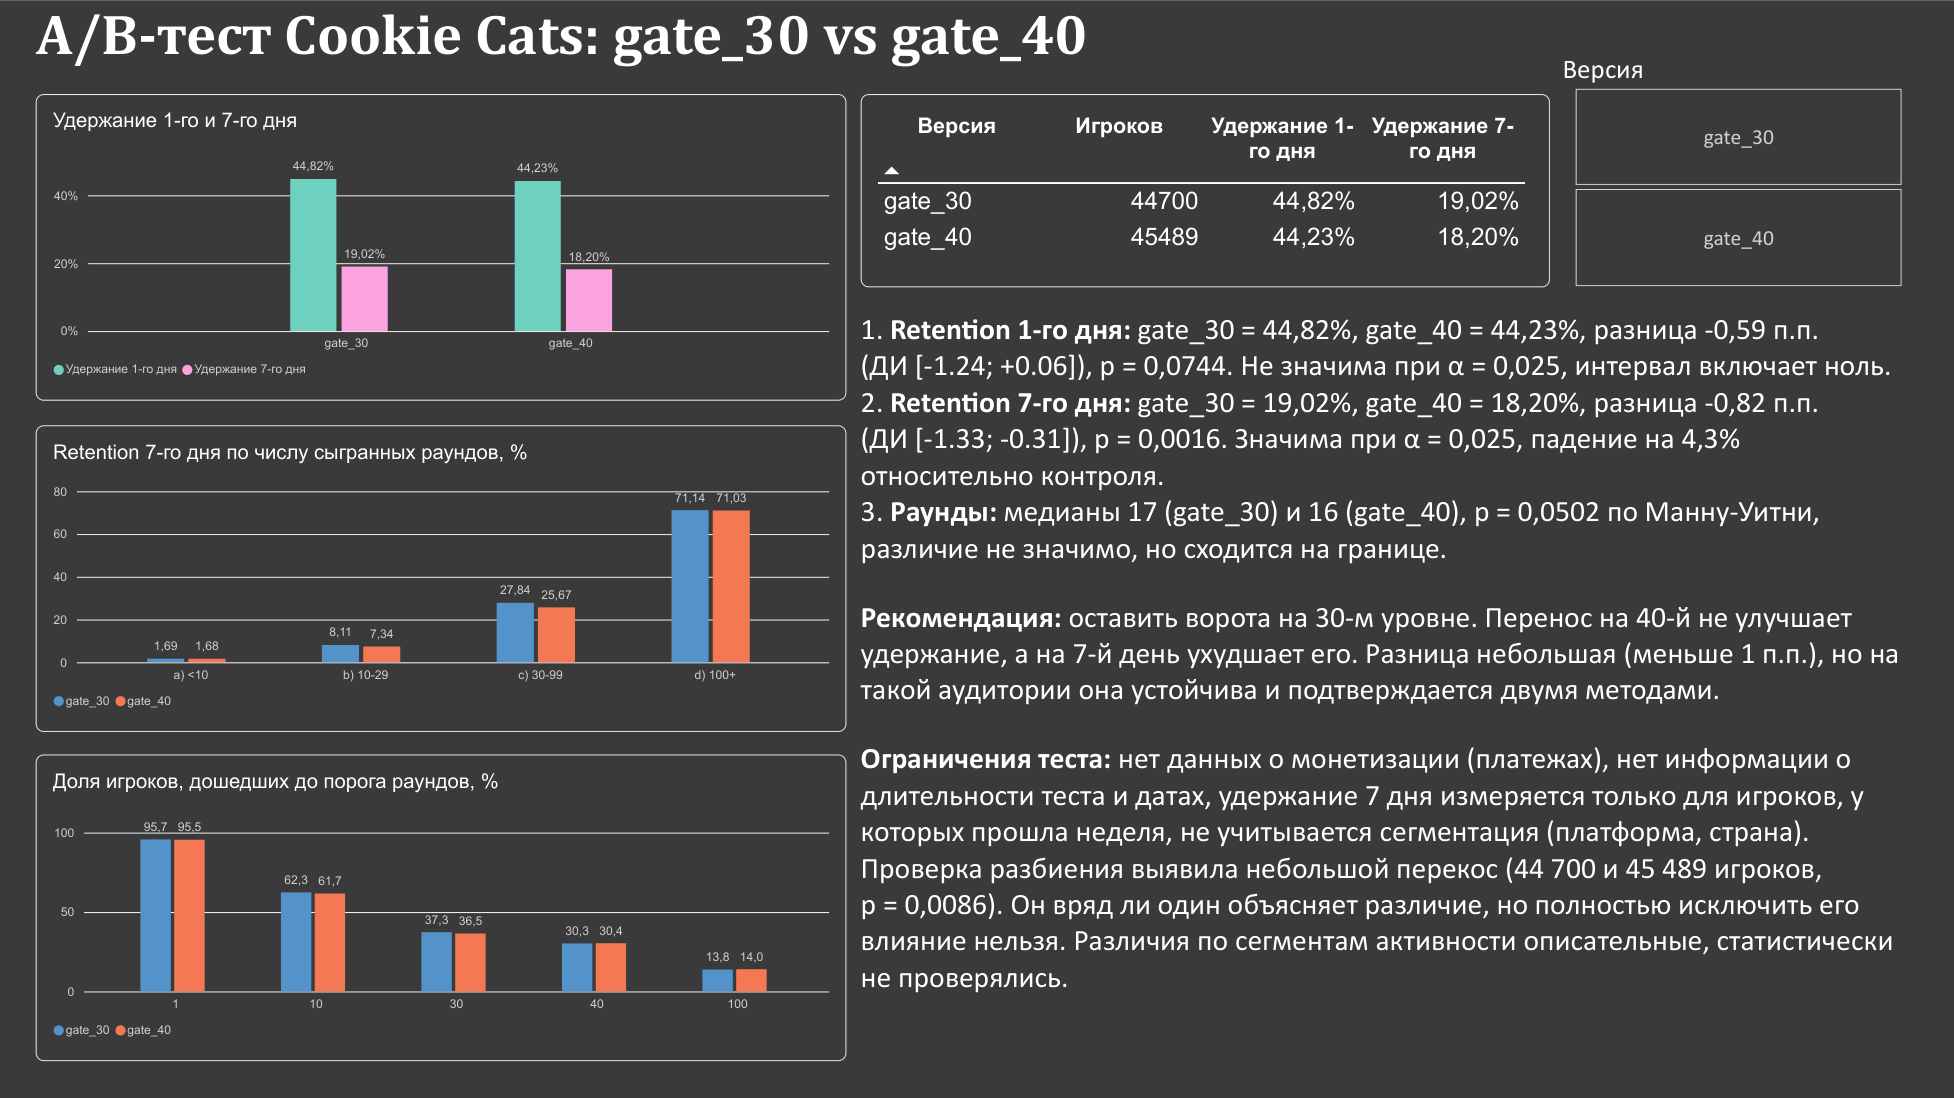

What the dashboard file says about the page in this screenshot:
{"tool":"powerbi","page":{"name":"Page 1","canvas":[1920,1080],"ordinal":0},"visuals":[{"type":"textbox","box":[57.6,0,1113.6,92.6],"z":0},{"type":"slicer","title":"Версия","fields":{"Values":["Versions.version"]},"box":[1558.2,51.5,362.3,232.6],"z":1000},{"type":"clusteredColumnChart","title":"Удержание 1-го и 7-го дня","fields":{"Category":["dash_summary.version"],"Y":["Sum(dash_summary.ret_1d)","Sum(dash_summary.ret_7d)"]},"box":[57.6,92.6,800.7,302.6],"z":2000},{"type":"clusteredColumnChart","title":"Retention 7-го дня по числу сыгранных раундов, %","fields":{"Category":["dash_activity.activity"],"Series":["dash_activity.version"],"Y":["Sum(dash_activity.ret_7d_pct)"]},"box":[57.6,419.9,800.7,302.6],"z":3000},{"type":"clusteredColumnChart","title":"Доля игроков, дошедших до порога раундов, %","fields":{"Category":["dash_funnel.threshold"],"Series":["dash_funnel.version"],"Y":["Sum(dash_funnel.pct_players)"]},"box":[57.6,745.1,800.7,302.6],"z":4000},{"type":"tableEx","fields":{"Values":["dash_summary.version","Sum(dash_summary.players)","Sum(dash_summary.ret_1d)","Sum(dash_summary.ret_7d)"]},"box":[872.7,92.6,681.3,191.4],"z":5000},{"type":"textbox","box":[872.7,306.7,1029.2,741],"z":6000}]}

Visuals, with their boxes in screenshot pixels (x1, y1, x2, y2), scaled from the page's 1920x1080 canvas onto the 1954x1098 screenshot:
textbox: (x1=59, y1=0, x2=1192, y2=94)
"Версия" slicer: (x1=1586, y1=52, x2=1953, y2=289)
"Удержание 1-го и 7-го дня" clusteredColumnChart: (x1=59, y1=94, x2=873, y2=402)
"Retention 7-го дня по числу сыгранных раундов, %" clusteredColumnChart: (x1=59, y1=427, x2=873, y2=735)
"Доля игроков, дошедших до порога раундов, %" clusteredColumnChart: (x1=59, y1=758, x2=873, y2=1065)
tableEx - dash_summary.version x Sum(dash_summary.players): (x1=888, y1=94, x2=1582, y2=289)
textbox: (x1=888, y1=312, x2=1936, y2=1065)
